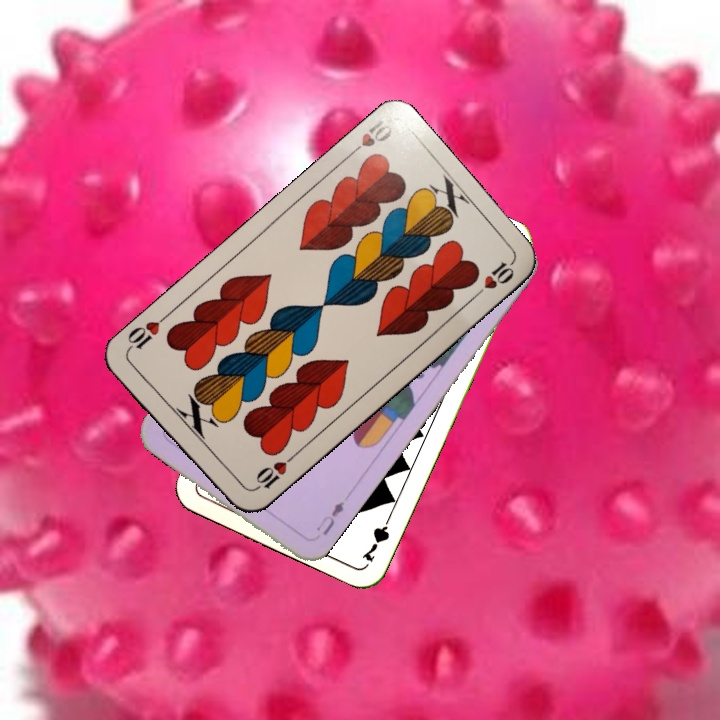EU: (312, 497, 347, 538)
G7: (357, 509, 395, 565)
H10: (343, 113, 395, 161), (248, 451, 297, 494)
